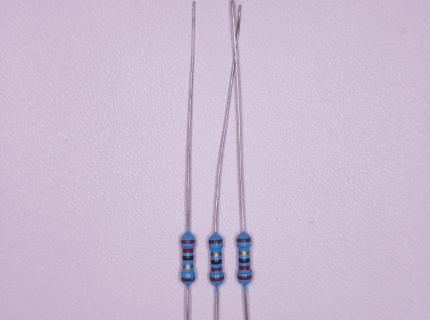Black band: (239, 257, 250, 263), (211, 259, 222, 264), (182, 256, 194, 260)
Brown band: (236, 237, 251, 242), (209, 239, 222, 244), (181, 277, 195, 281)
Gold band: (211, 252, 222, 257), (182, 265, 194, 269), (238, 251, 250, 255)
Red band: (237, 274, 252, 280), (210, 276, 224, 281), (182, 248, 193, 253), (239, 265, 250, 270), (211, 267, 222, 271), (181, 240, 195, 243)
